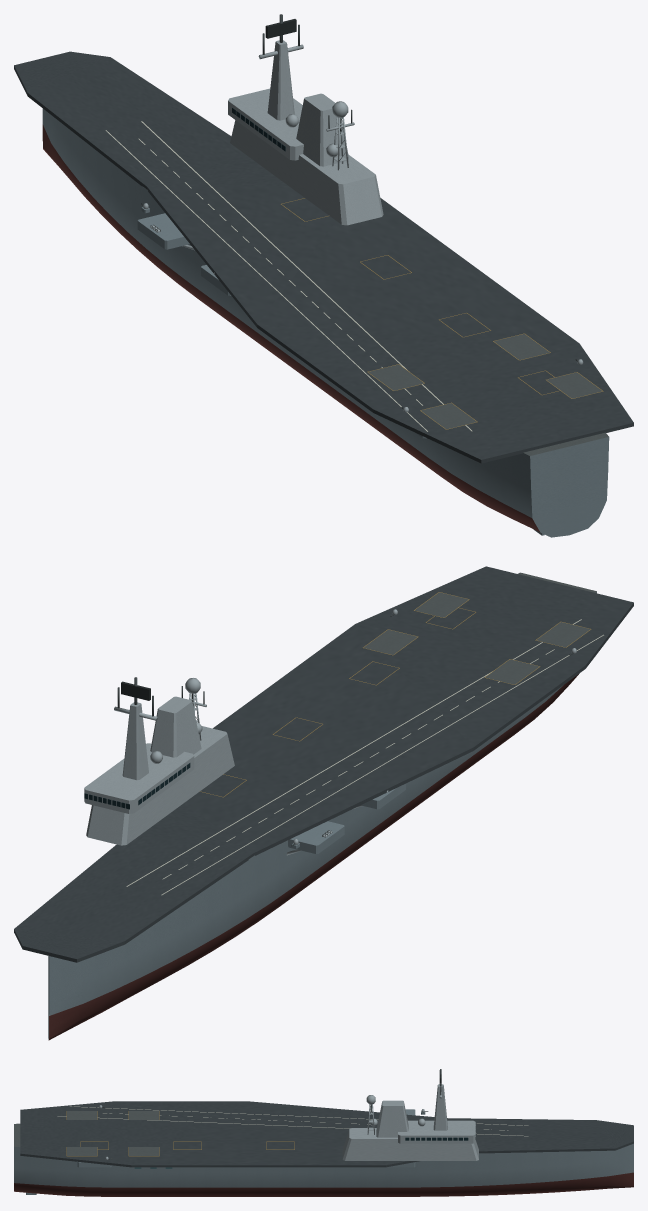
The model's file is wings_charles_de_gaulle_r91.glb.
3 renders of one model, top to bottom at view 1: azimuth 30°, elevation 25°; view 2: azimuth 150°, elevation 25°; view 3: azimuth 270°, elevation 25°, orthographic. The views are drawn at different scales.
Parts seen in each view (by area): view 1: static_hull_deck_superstructure; view 2: static_hull_deck_superstructure; view 3: static_hull_deck_superstructure.
Boxes of the visible parts, x1,y1,x2,y2 form: static_hull_deck_superstructure: [14, 14, 633, 537]; static_hull_deck_superstructure: [14, 566, 633, 1040]; static_hull_deck_superstructure: [14, 1069, 633, 1196].
Size of the model in its own units: 63.72 by 66.28 by 262.
1 material, 1 textured.
